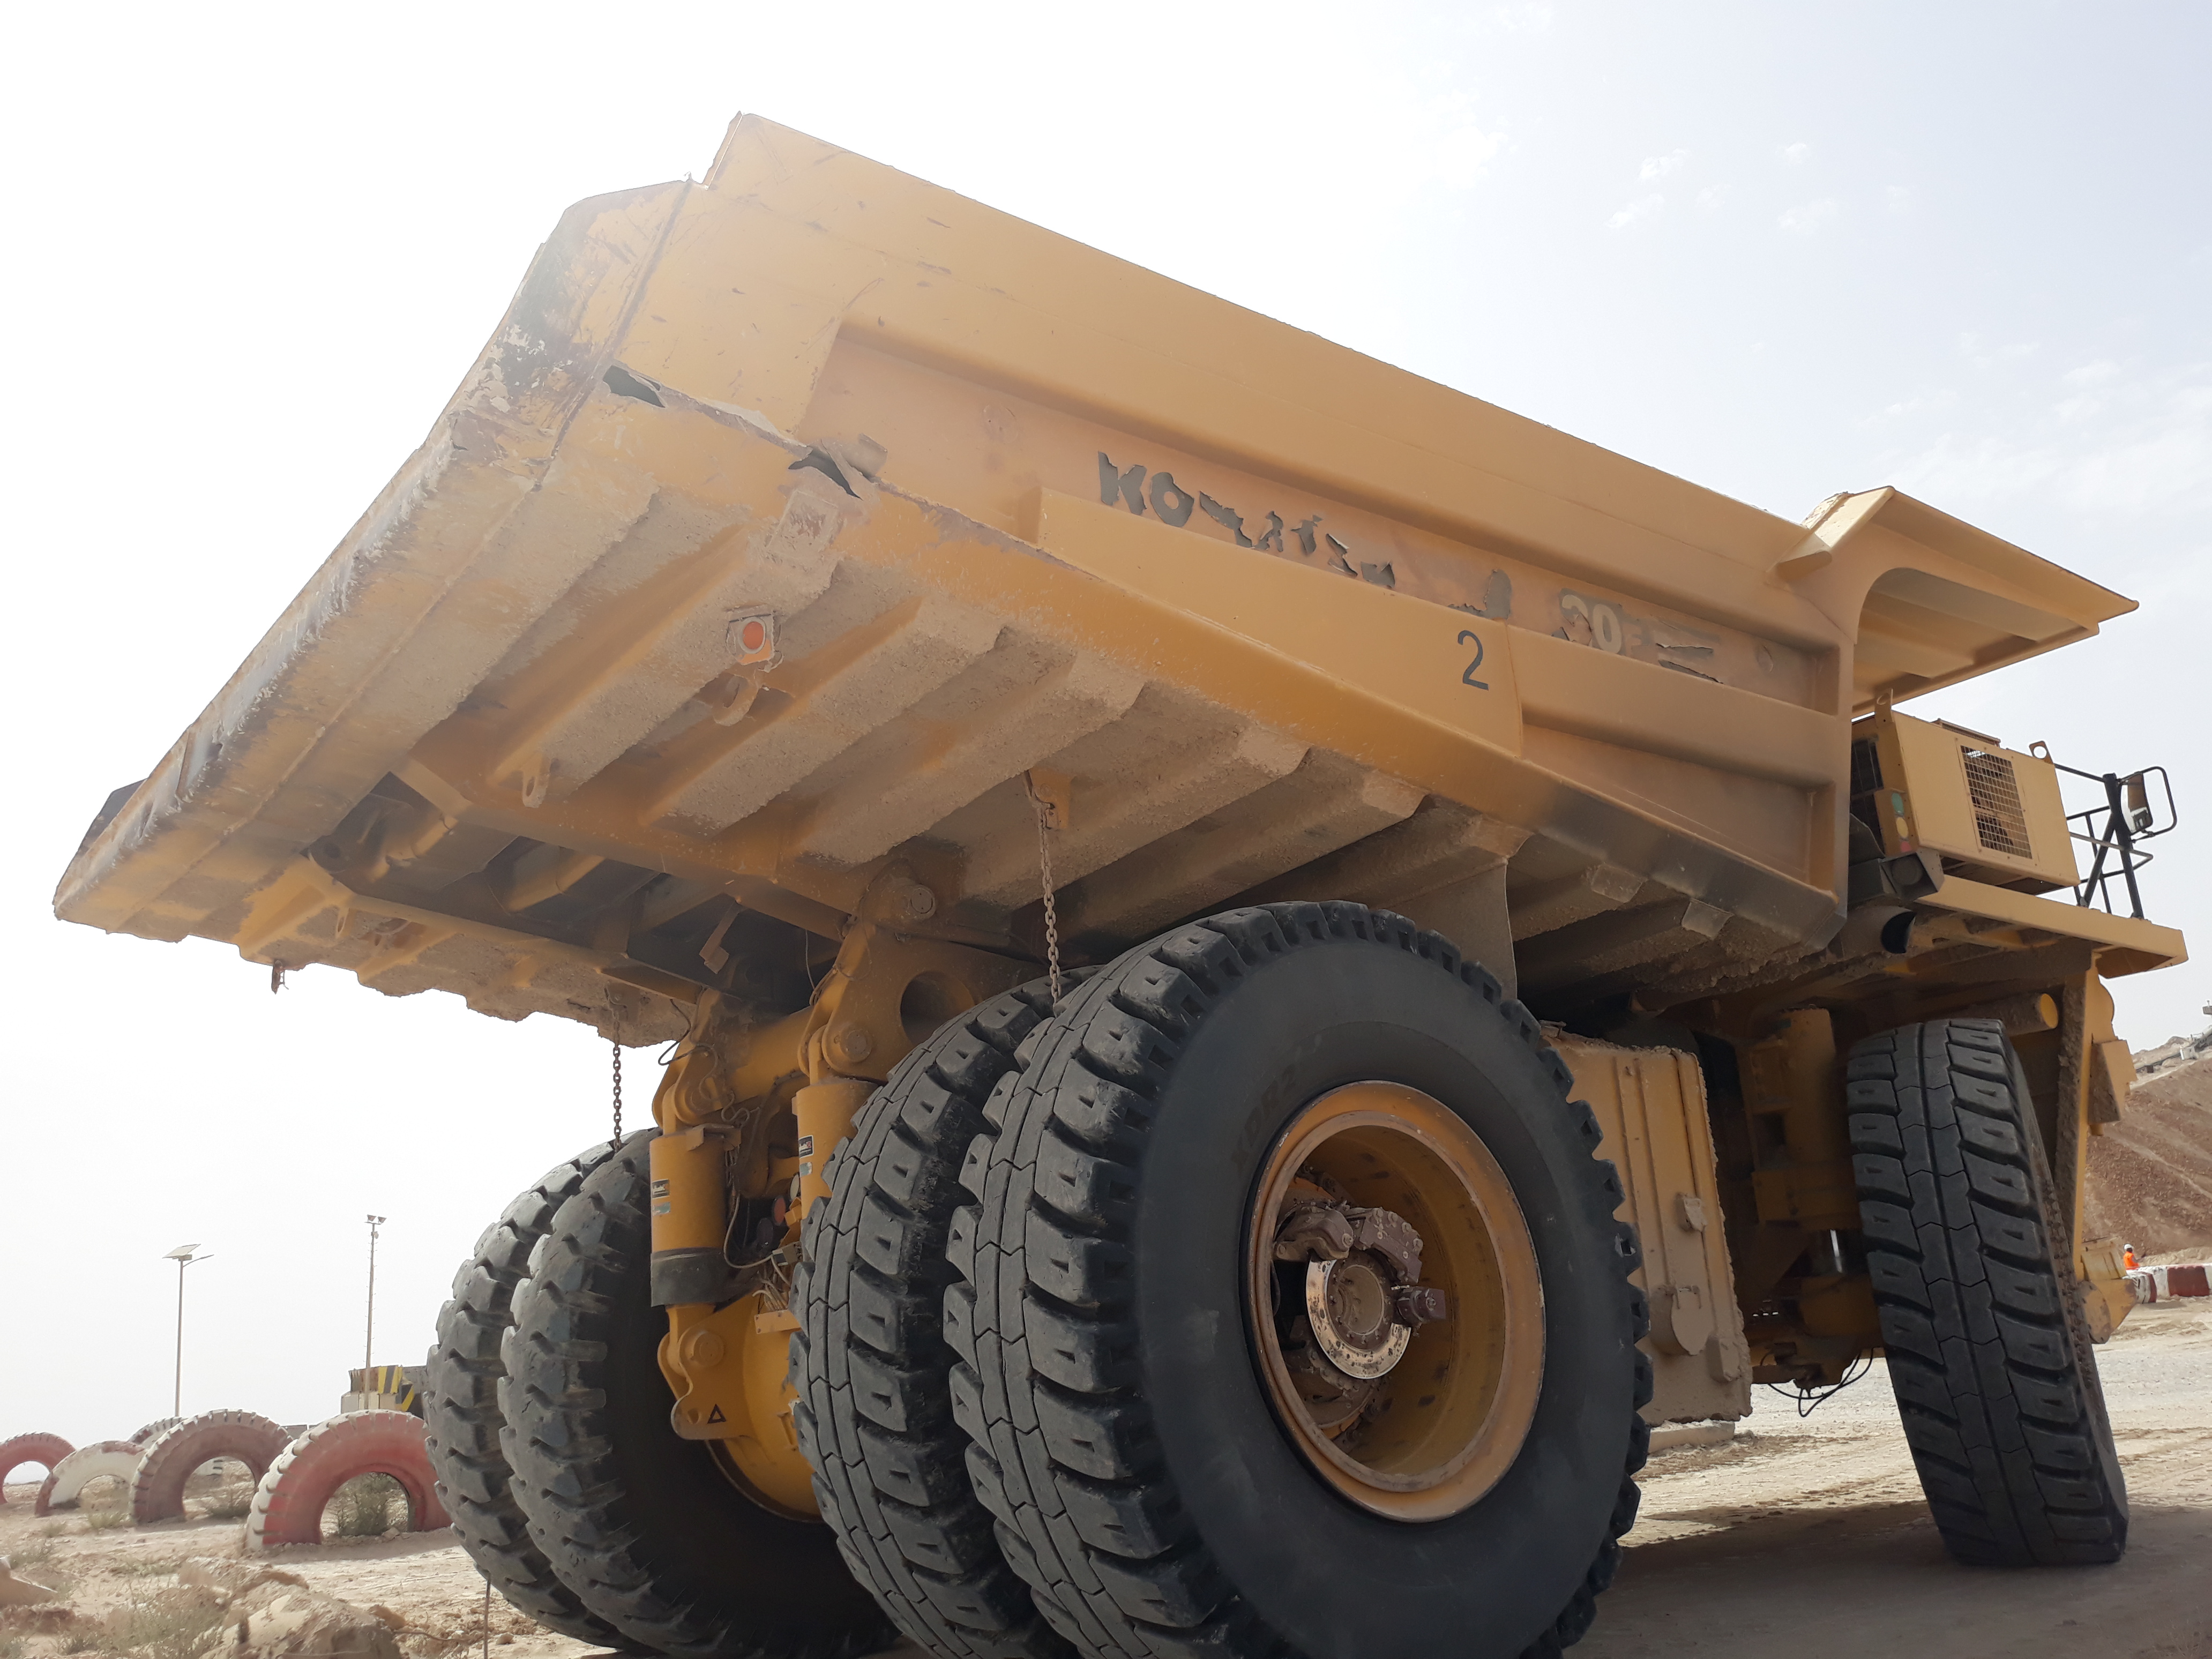camion: (37, 70, 2191, 1659)
